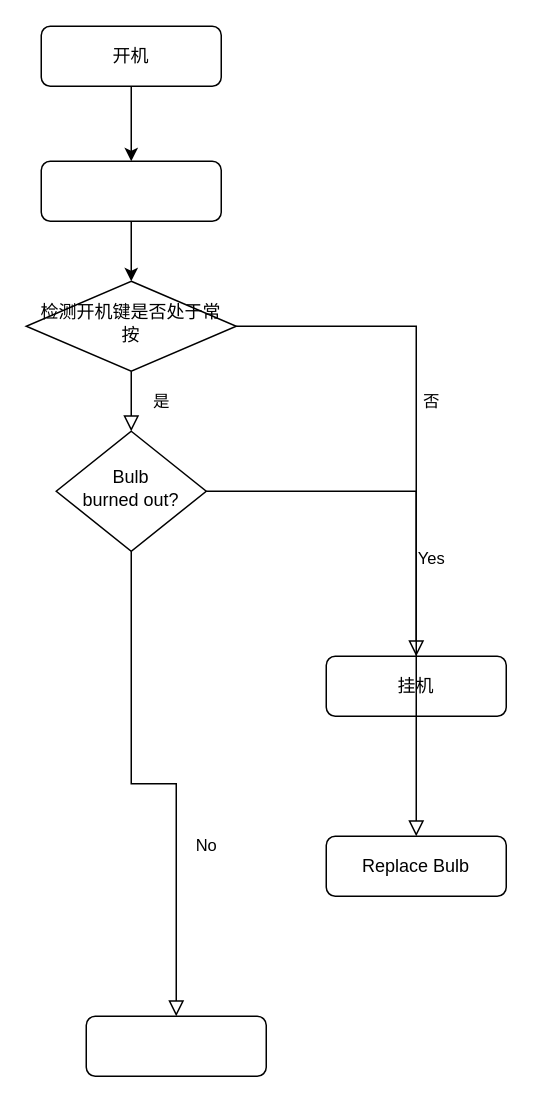
The diagram is 533 pixels wide and 1103 high, and some of its shapes have lost their labels. The shapes that lost their labels are listed below. From the top down, each one's centre as x and y in pixels, then its label:
At point (130, 190): "初始化IO口 时钟、定时器、DMA".
At point (175, 1045): "Repair Lamp".
